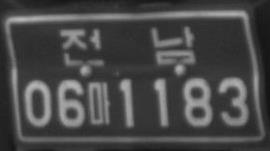0: (23, 79, 52, 128)
1: (114, 77, 141, 128), (148, 77, 175, 127)
3: (218, 76, 250, 127)
6: (56, 78, 86, 127)
8: (183, 77, 213, 127)
마: (87, 81, 111, 124)
전남_D: (59, 24, 197, 67)
